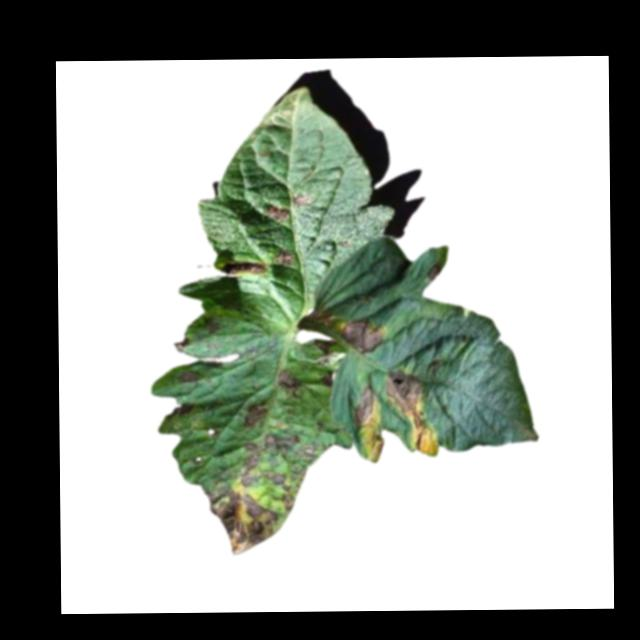Early_blight: (206, 488, 278, 555), (383, 365, 438, 452), (335, 318, 383, 352), (351, 383, 379, 425), (261, 432, 298, 460), (268, 471, 294, 510), (238, 396, 269, 428), (239, 441, 260, 487), (221, 257, 267, 275), (273, 369, 302, 396), (363, 430, 384, 463), (169, 370, 202, 386), (263, 202, 290, 221), (298, 438, 317, 463), (277, 246, 298, 266), (291, 191, 311, 205)
